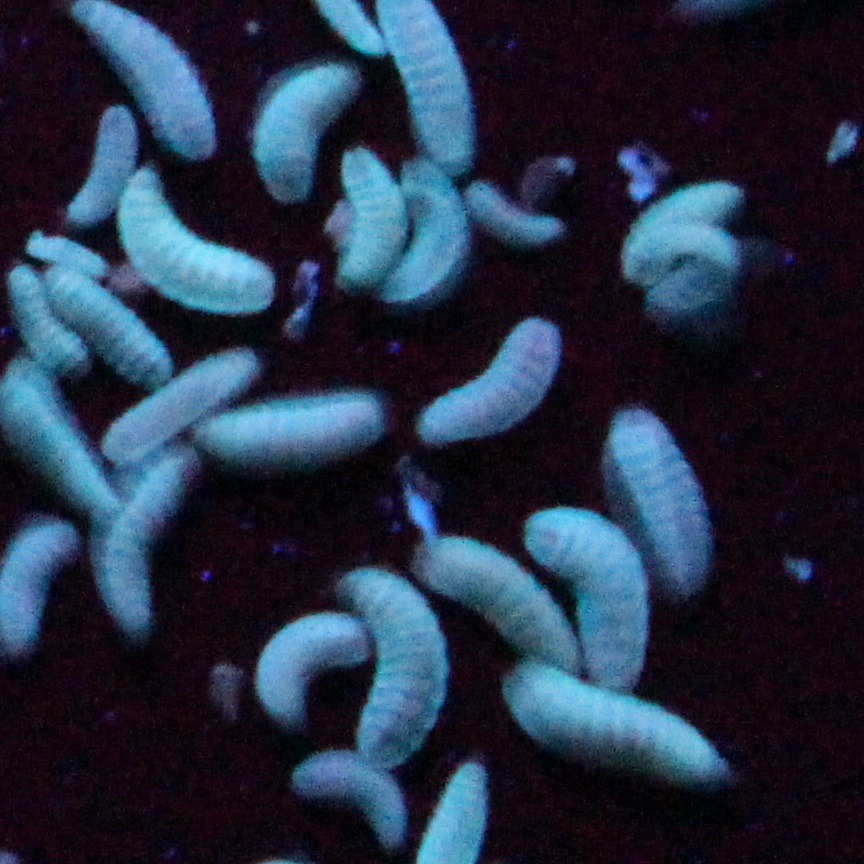larve: (507, 668, 727, 794), (118, 165, 279, 317), (80, 1, 220, 174), (607, 401, 714, 594), (547, 501, 654, 688), (347, 574, 447, 768), (420, 308, 554, 448), (99, 343, 260, 459), (99, 456, 186, 646), (200, 388, 380, 474), (620, 181, 747, 294), (53, 259, 166, 378), (263, 65, 353, 201), (0, 514, 74, 654), (382, 172, 457, 310), (254, 614, 334, 728), (344, 156, 392, 291), (466, 181, 563, 243)
